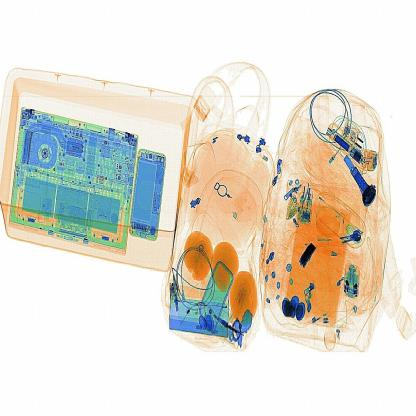scissors: (297, 237, 315, 274)
